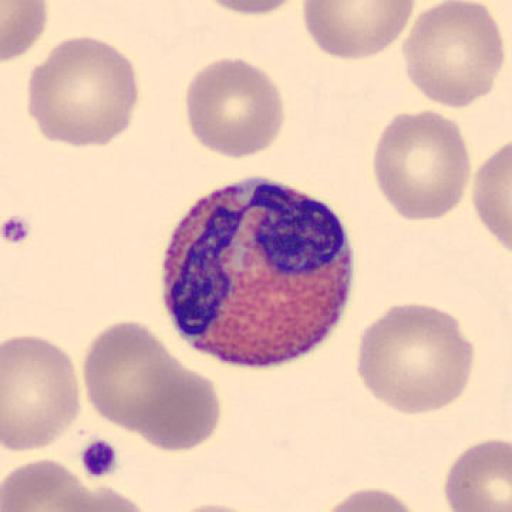RBC: (82, 319, 221, 450), (354, 301, 477, 417), (26, 34, 140, 148), (371, 108, 472, 222), (401, 0, 505, 109), (184, 56, 284, 160), (1, 334, 81, 454), (0, 457, 154, 512), (302, 0, 416, 62), (442, 437, 512, 512), (0, 457, 94, 512), (472, 138, 512, 258), (46, 474, 156, 512), (1, 1, 50, 64), (315, 486, 423, 512), (204, 0, 302, 17), (167, 502, 263, 512)
WBC: (161, 175, 358, 369)
